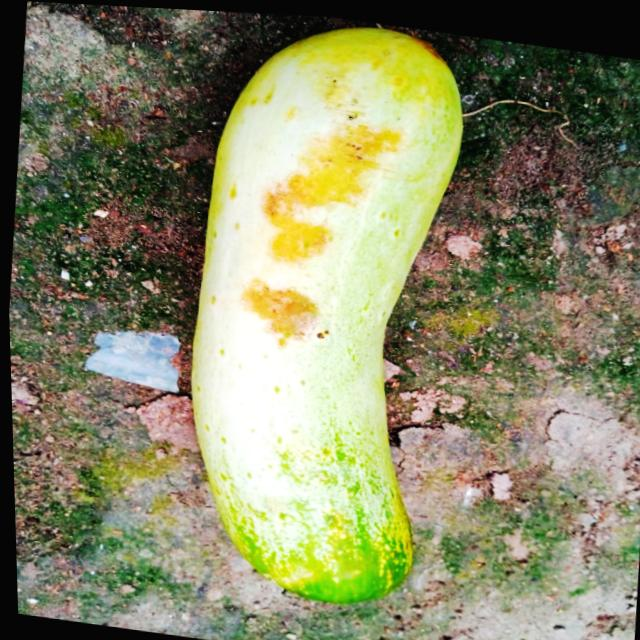Belly-Rot: (222, 81, 402, 373)
